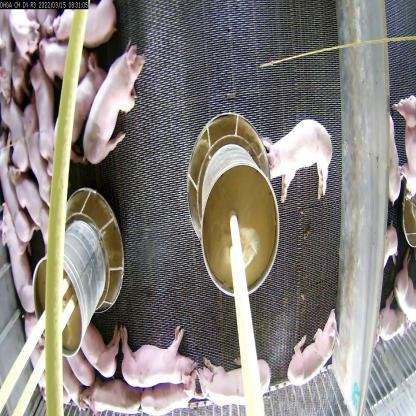Pig: (80, 31, 150, 176), (257, 113, 340, 214), (46, 50, 106, 164), (118, 316, 199, 393), (7, 154, 63, 258), (18, 98, 65, 217), (277, 306, 340, 394), (24, 53, 68, 176), (0, 200, 42, 322), (191, 349, 277, 408), (0, 130, 39, 260), (48, 4, 128, 52), (387, 88, 416, 207), (23, 311, 53, 410), (80, 320, 127, 380), (374, 287, 411, 359), (138, 376, 201, 416), (36, 41, 87, 85), (394, 244, 416, 336), (89, 377, 145, 413), (8, 6, 43, 63), (54, 360, 86, 416), (66, 344, 101, 392)
